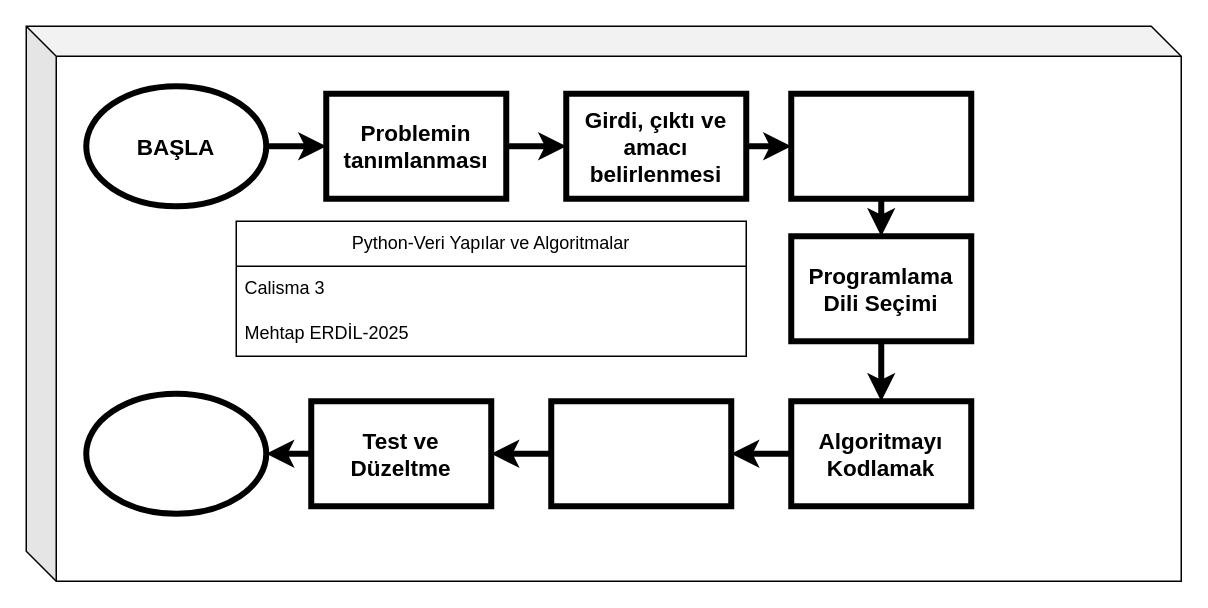
The diagram is 1208 pixels wide and 608 high, and some of its shapes have lost their labels. Here are the shapes that lost their labels. From the top down, the centre of each, then its label:
pixel 881 145: Algoritma tasarımı
pixel 175 453: BİTİR
pixel 641 453: Algoritma Analizi
